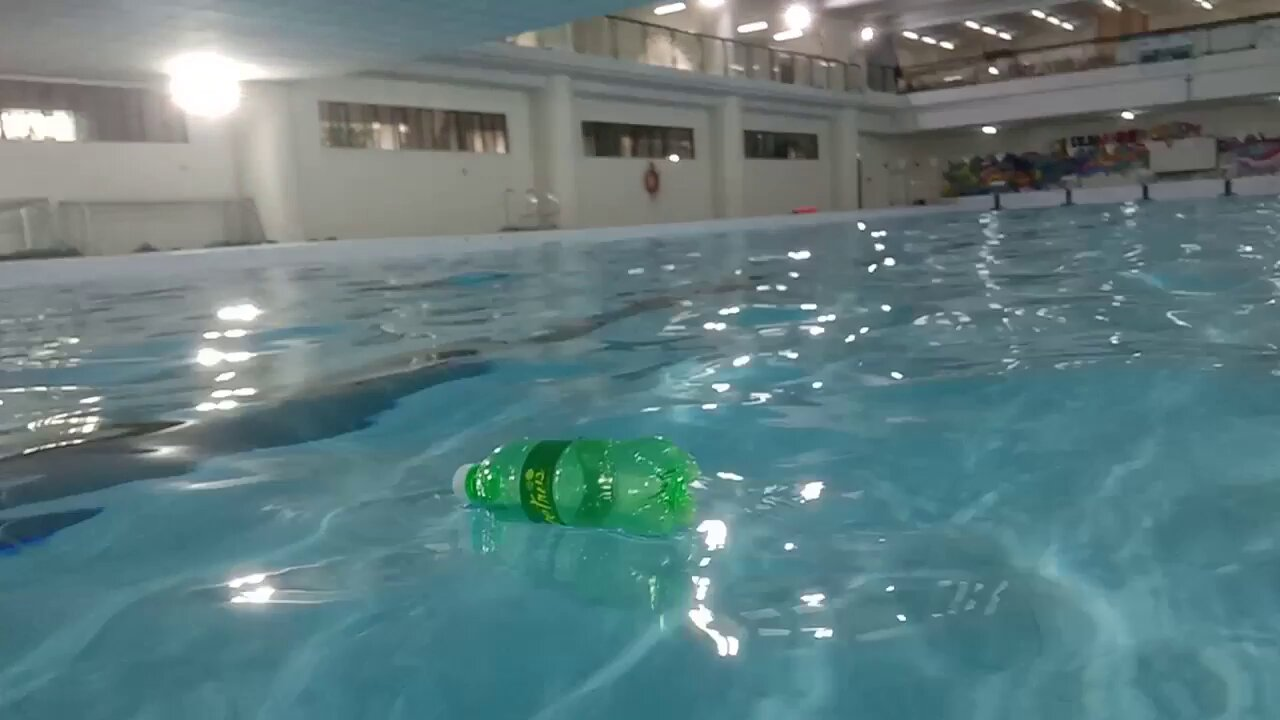plastic_bottle: (453, 436, 699, 539)
